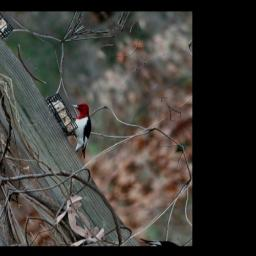Woodpecker: (48, 93, 115, 165)
